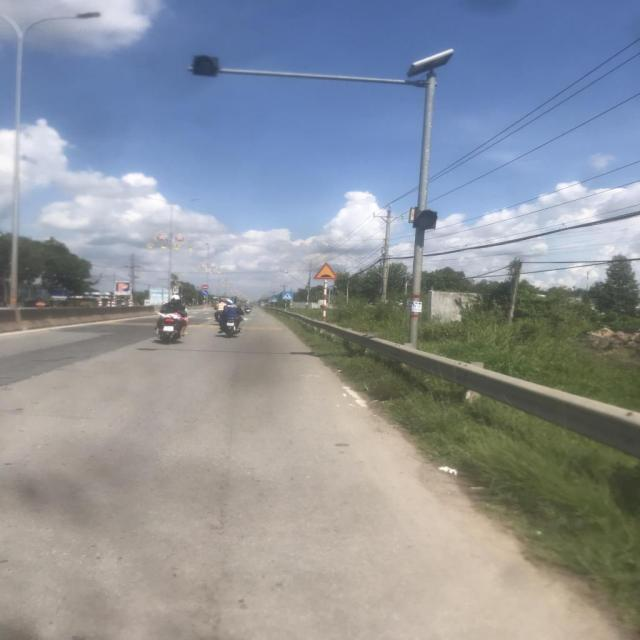cam_xe_di_nguoc_chieu: (202, 284, 208, 289)
duong_co_song_map_mo_nhan_tao: (313, 262, 339, 280)
duong_nguoi_di_bo_sang_ngang: (282, 292, 294, 300), (271, 298, 278, 302)
huong_phai_di_vuot_chuong_ngai_vat_phai: (202, 291, 208, 295)
